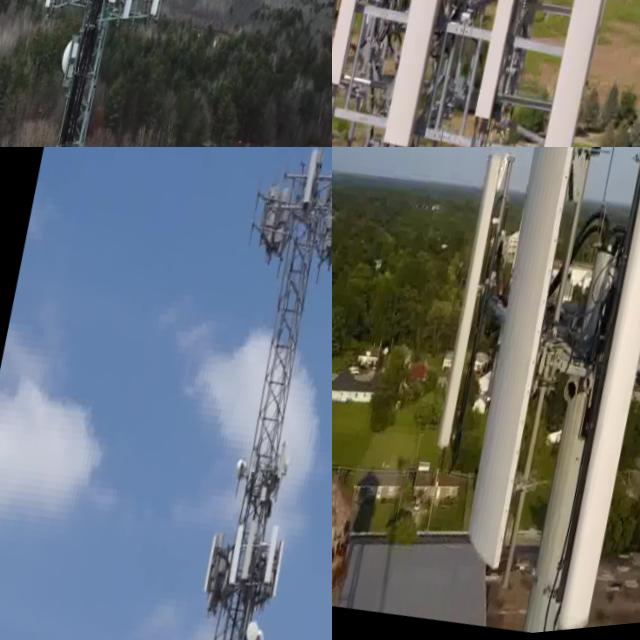GSM Antenna: (430, 147, 616, 586), (524, 147, 640, 638), (420, 148, 521, 455), (365, 0, 483, 147), (521, 0, 637, 147), (463, 0, 537, 146), (332, 0, 392, 108), (192, 529, 226, 611), (259, 531, 291, 612), (250, 527, 280, 605), (218, 521, 248, 596), (231, 520, 260, 591), (296, 147, 323, 216), (114, 0, 157, 40), (142, 0, 182, 29)
Microwave Antenna: (49, 35, 90, 99), (229, 458, 247, 491), (277, 462, 292, 488), (239, 623, 256, 640), (247, 630, 264, 640)
